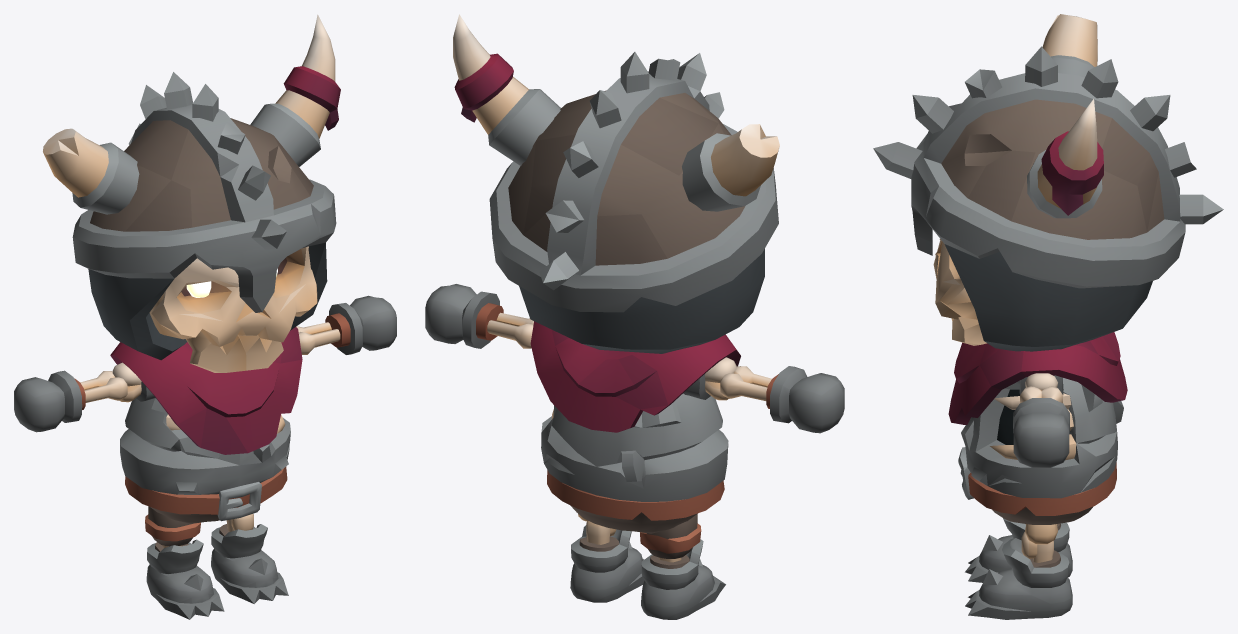
The model's file is Skeleton_Warrior.glb.
3 views of the same model, side by side, from view 1: azimuth 30°, elevation 25°; view 2: azimuth 150°, elevation 25°; view 3: azimuth 270°, elevation 25° (orthographic). The views are drawn at different scales.
Parts seen in each view (by area): view 1: Skeleton_Warrior_Helmet, Skeleton_Warrior_Body, Skeleton_Warrior_Cloak, Skeleton_Warrior_Head, Skeleton_Warrior_LegRight, Skeleton_Warrior_ArmRight, Skeleton_Warrior_LegLeft, Skeleton_Warrior_ArmLeft, Skeleton_Warrior_Jaw; view 2: Skeleton_Warrior_Helmet, Skeleton_Warrior_Body, Skeleton_Warrior_Cloak, Skeleton_Warrior_ArmRight, Skeleton_Warrior_LegRight, Skeleton_Warrior_ArmLeft, Skeleton_Warrior_LegLeft; view 3: Skeleton_Warrior_Helmet, Skeleton_Warrior_Body, Skeleton_Warrior_Cloak, Skeleton_Warrior_LegLeft, Skeleton_Warrior_ArmLeft, Skeleton_Warrior_LegRight, Skeleton_Warrior_Head, Skeleton_Warrior_Jaw.
Boxes of the visible parts, x1,y1,x2,y2 form: Skeleton_Warrior_Helmet: (43,14,340,360); Skeleton_Warrior_Body: (120,398,290,523); Skeleton_Warrior_Cloak: (110,327,302,454); Skeleton_Warrior_Head: (149,246,317,346); Skeleton_Warrior_LegRight: (145,506,224,619); Skeleton_Warrior_ArmRight: (14,362,155,432); Skeleton_Warrior_LegLeft: (211,514,288,603); Skeleton_Warrior_ArmLeft: (296,295,396,354); Skeleton_Warrior_Jaw: (186,331,283,372); Skeleton_Warrior_Helmet: (453,14,779,353); Skeleton_Warrior_Body: (541,393,728,533); Skeleton_Warrior_Cloak: (530,321,740,432); Skeleton_Warrior_ArmRight: (683,357,844,433); Skeleton_Warrior_LegRight: (640,514,725,619); Skeleton_Warrior_ArmLeft: (425,284,533,348); Skeleton_Warrior_LegLeft: (570,514,644,602); Skeleton_Warrior_Helmet: (873,14,1223,351); Skeleton_Warrior_Body: (958,378,1123,524); Skeleton_Warrior_Cloak: (948,332,1127,424); Skeleton_Warrior_LegLeft: (965,524,1072,619); Skeleton_Warrior_ArmLeft: (1013,373,1069,467); Skeleton_Warrior_LegRight: (965,518,1072,582); Skeleton_Warrior_Head: (933,239,977,319); Skeleton_Warrior_Jaw: (951,316,986,345).
Bounding box in the file's own units: 1.94 × 2.59 × 1.46.
2 materials, 1 textured.
